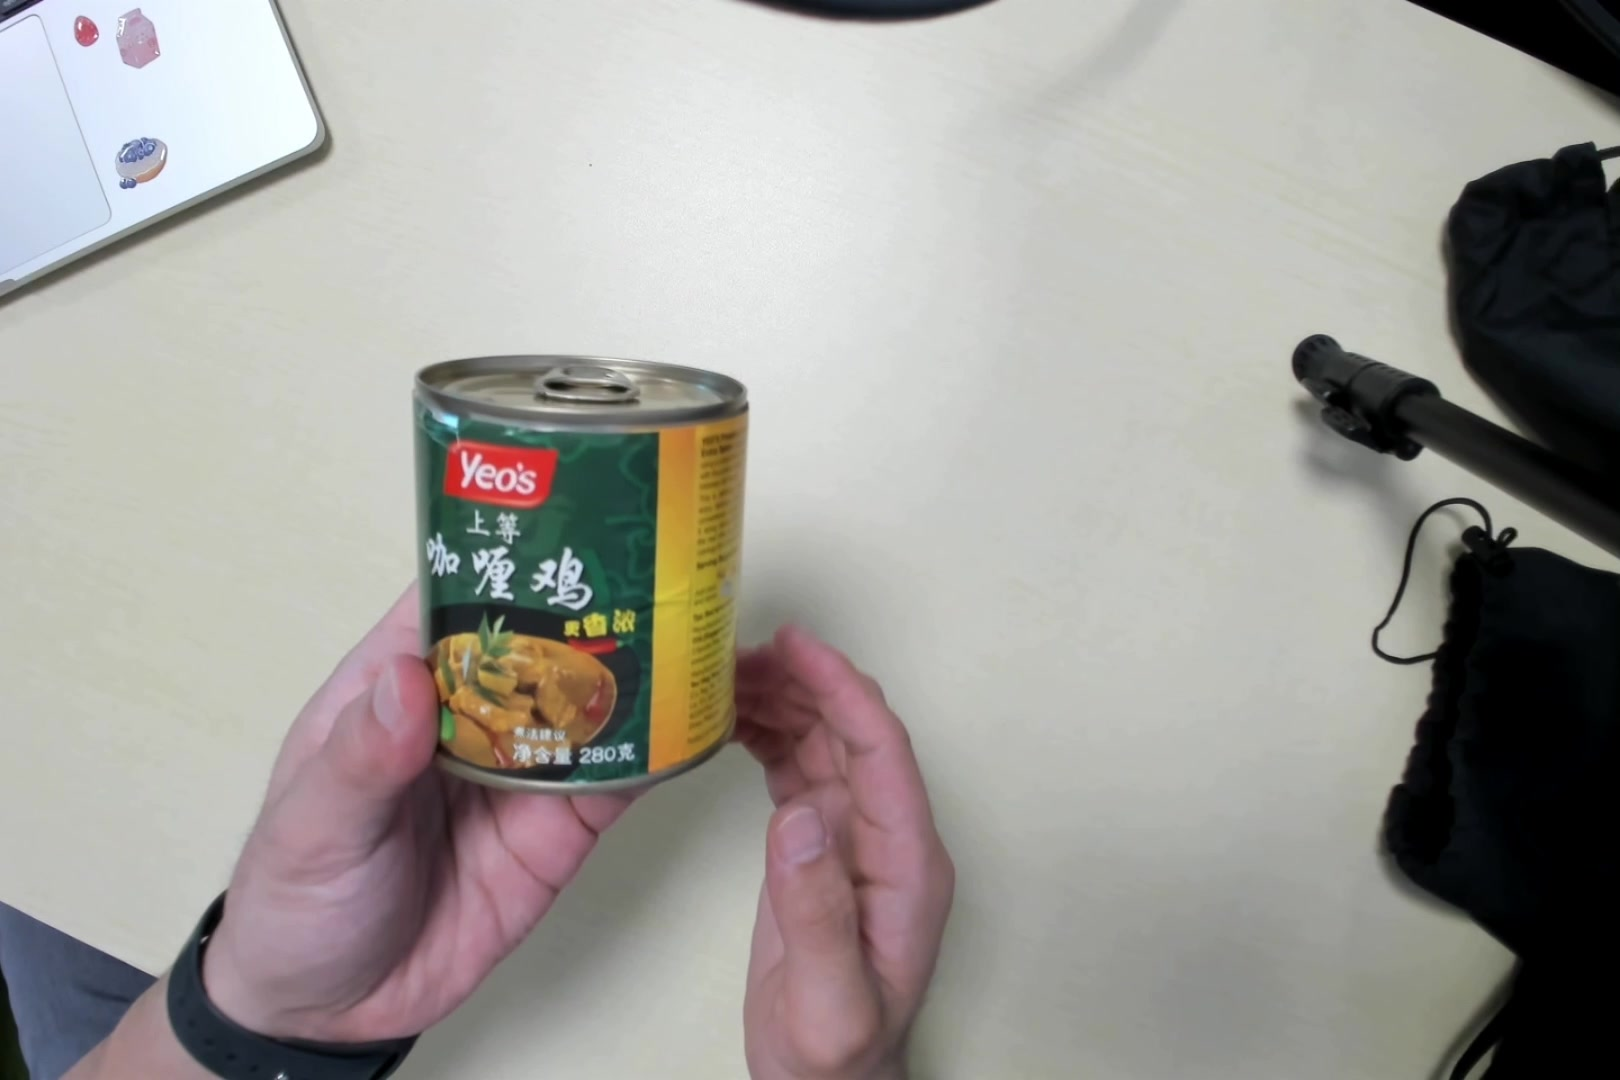CannedChicken_100-199g_Halal_NonHealthy: (412, 360, 736, 779)
